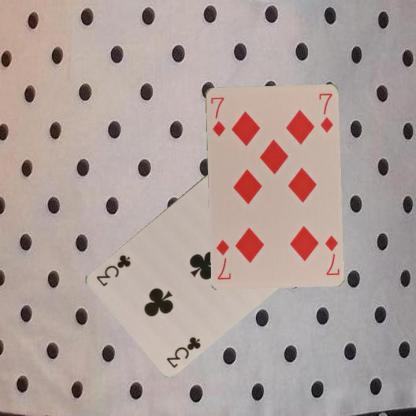3c: (164, 334, 202, 368)
7d: (322, 232, 340, 277), (208, 94, 226, 137)
